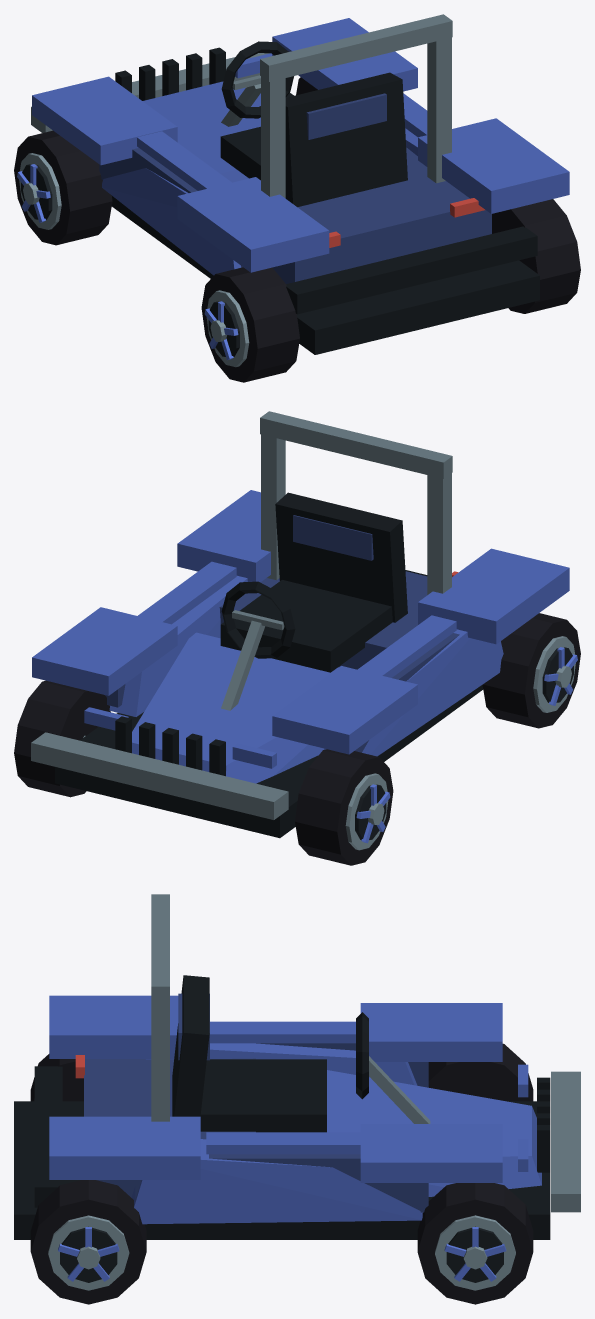
File: kart.glb
The picture shows the model from 3 angles, top to bottom: view 1: azimuth 30°, elevation 25°; view 2: azimuth 150°, elevation 25°; view 3: azimuth 270°, elevation 25°; orthographic projection. The views are drawn at different scales.
Parts seen in each view (by area): view 1: chassis, wheel-rear-left, wheel-front-left, wheel-rear-right; view 2: chassis, wheel-front-left, wheel-rear-left, wheel-front-right; view 3: chassis, wheel-rear-right, wheel-front-right, wheel-front-left, wheel-rear-left.
Part boxes in pixels (x1,y1,x2,y2): chassis: (31, 14, 569, 354); wheel-rear-left: (201, 267, 299, 382); wheel-front-left: (14, 130, 112, 245); wheel-rear-right: (492, 199, 580, 313); chassis: (31, 411, 569, 838); wheel-front-left: (295, 749, 393, 865); wheel-rear-left: (482, 613, 580, 728); wheel-front-right: (14, 680, 110, 797); chassis: (14, 894, 580, 1239); wheel-rear-right: (30, 1180, 146, 1304); wheel-front-right: (417, 1183, 533, 1304); wheel-front-left: (428, 1043, 533, 1101); wheel-rear-left: (30, 1054, 83, 1101).
Size of the model in its own units: 2.23 by 1.67 by 3.03.
